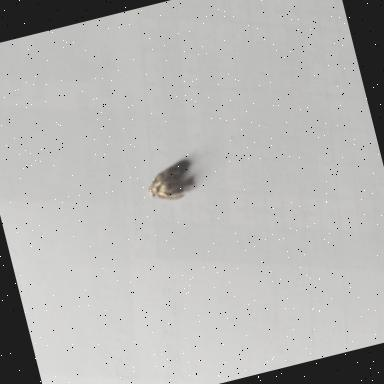pbw: (142, 160, 192, 207)
